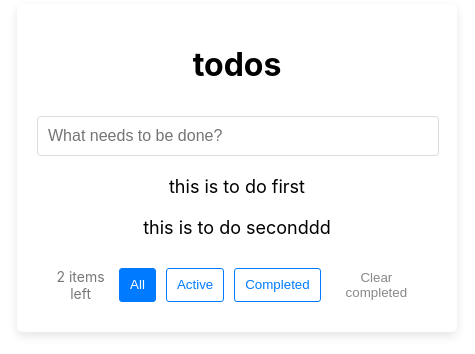
TodoApp › filters completed todos
Step 1. Click the list item "this is to do first" → (237, 186), box [169,176,305,197]
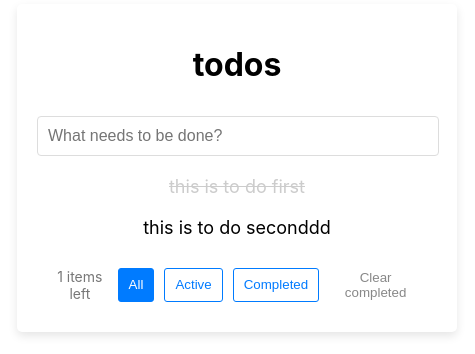
Step 2. Click the button "Completed" → (276, 285), box [233,268,319,302]
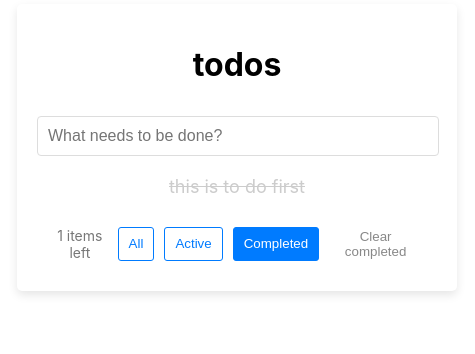
Check: the list item "this is to do first" is shown, box [169,176,305,197]
Check: the list item "this is to do seconddd" is gone
